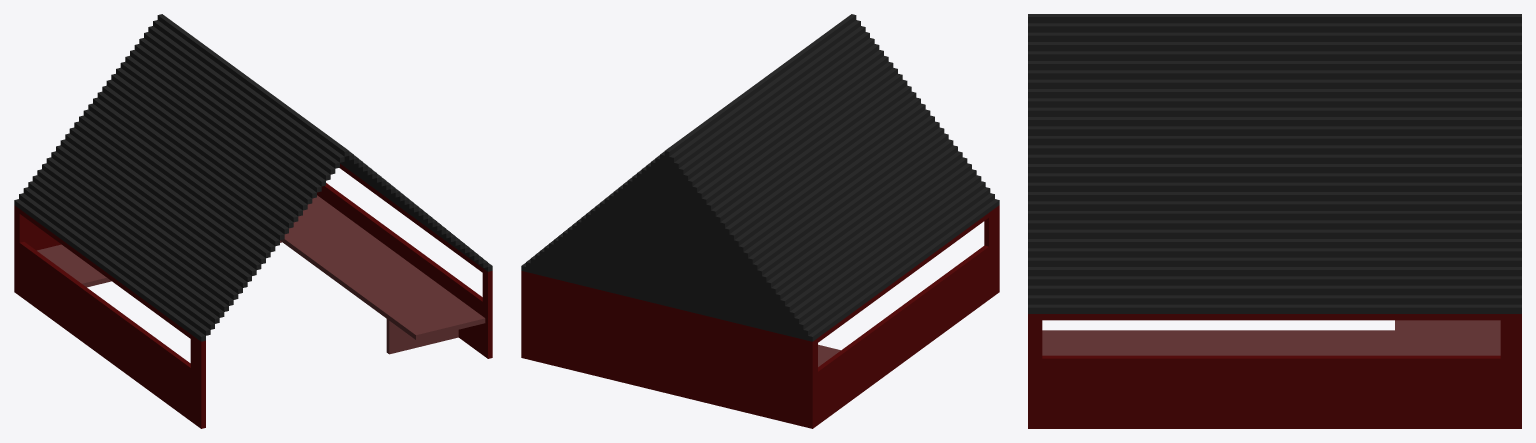
The model's file is garagao.obj.
3 views of the same model, side by side, from view 1: azimuth 30°, elevation 25°; view 2: azimuth 150°, elevation 25°; view 3: azimuth 270°, elevation 25° (orthographic). The views are drawn at different scales.
Size of the model in its own units: 6.3 by 5 by 7.
Materials: 1 (1 with a texture image).
